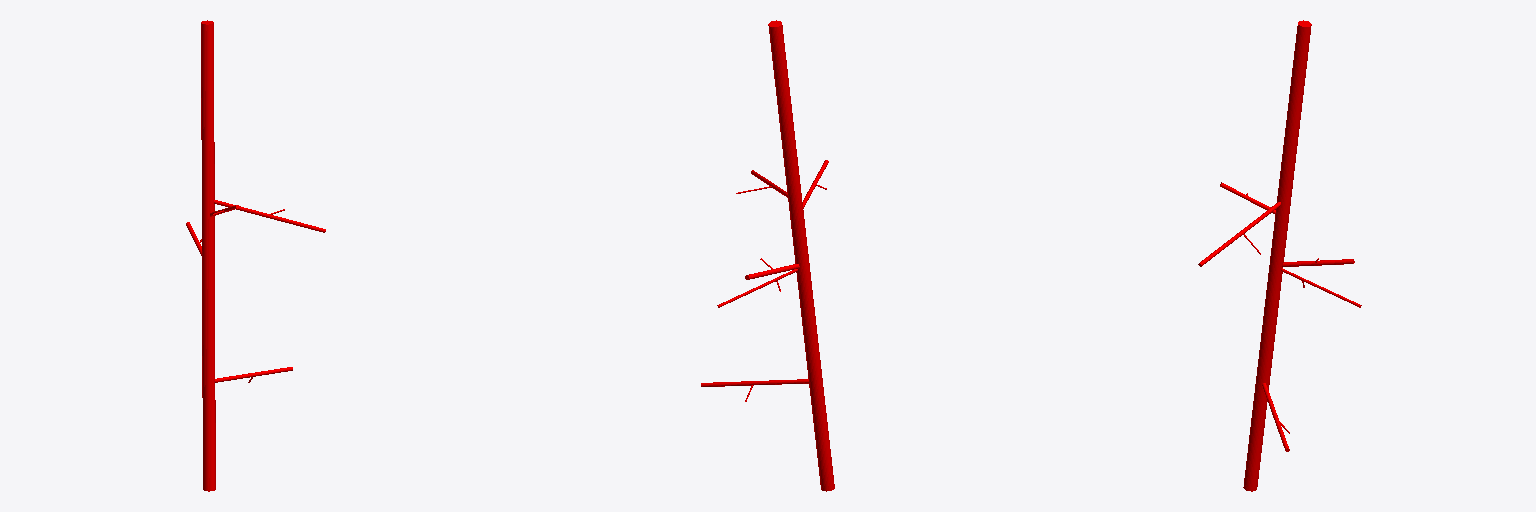
URDF robot description (tree_25.urdf):
<?xml version='1.0' encoding='UTF-8'?>
<robot name="tree_25.urdf">
  <link name="branch_0">
    <inertial>
      <origin xyz="0.0 0.0 0.0" rpy="0.0 -0.0 0.0"/>
      <mass value="0.1"/>
      <inertia ixx="0.001" ixy="0.0" ixz="0.0" iyy="0.001" iyz="0.0" izz="0.001"/>
    </inertial>
    <visual name="branch_0_visual">
      <geometry>
        <cylinder radius="0.08957410313002225" length="6.779801568497405"/>
      </geometry>
      <material name="semantic_material"/>
      <origin xyz="0.18666778554879407 0.34825692871360764 3.3667936640802982" rpy="0.0 0.1168265146432138 1.078760553973298"/>
    </visual>
    <collision name="branch_0_collision">
      <geometry>
        <cylinder radius="0.08957410313002225" length="6.779801568497405"/>
      </geometry>
      <origin xyz="0.18666778554879407 0.34825692871360764 3.3667936640802982" rpy="0.0 0.1168265146432138 1.078760553973298"/>
    </collision>
  </link>
  <link name="branch_1">
    <inertial>
      <origin xyz="0.0 0.0 0.0" rpy="0.0 -0.0 0.0"/>
      <mass value="0.1"/>
      <inertia ixx="0.001" ixy="0.0" ixz="0.0" iyy="0.001" iyz="0.0" izz="0.001"/>
    </inertial>
    <visual name="branch_1_visual">
      <geometry>
        <cylinder radius="0.027401256452054976" length="0.9089082602848901"/>
      </geometry>
      <material name="semantic_material"/>
      <origin xyz="0.0 0.0 0.0" rpy="0.0 -0.0 0.0"/>
    </visual>
    <collision name="branch_1_collision">
      <geometry>
        <cylinder radius="0.027401256452054976" length="0.9089082602848901"/>
      </geometry>
      <origin xyz="0.0 0.0 0.0" rpy="0.0 -0.0 0.0"/>
    </collision>
  </link>
  <link name="branch_2">
    <inertial>
      <origin xyz="0.0 0.0 0.0" rpy="0.0 -0.0 0.0"/>
      <mass value="0.1"/>
      <inertia ixx="0.001" ixy="0.0" ixz="0.0" iyy="0.001" iyz="0.0" izz="0.001"/>
    </inertial>
    <visual name="branch_2_visual">
      <geometry>
        <cylinder radius="0.01" length="0.18688515791371277"/>
      </geometry>
      <material name="semantic_material"/>
      <origin xyz="0.0 0.0 0.0" rpy="0.0 -0.0 0.0"/>
    </visual>
    <collision name="branch_2_collision">
      <geometry>
        <cylinder radius="0.01" length="0.18688515791371277"/>
      </geometry>
      <origin xyz="0.0 0.0 0.0" rpy="0.0 -0.0 0.0"/>
    </collision>
  </link>
  <link name="branch_3">
    <inertial>
      <origin xyz="0.0 0.0 0.0" rpy="0.0 -0.0 0.0"/>
      <mass value="0.1"/>
      <inertia ixx="0.001" ixy="0.0" ixz="0.0" iyy="0.001" iyz="0.0" izz="0.001"/>
    </inertial>
    <visual name="branch_3_visual">
      <geometry>
        <cylinder radius="0.019200198610659875" length="1.2768878653445594"/>
      </geometry>
      <material name="semantic_material"/>
      <origin xyz="0.0 0.0 0.0" rpy="0.0 -0.0 0.0"/>
    </visual>
    <collision name="branch_3_collision">
      <geometry>
        <cylinder radius="0.019200198610659875" length="1.2768878653445594"/>
      </geometry>
      <origin xyz="0.0 0.0 0.0" rpy="0.0 -0.0 0.0"/>
    </collision>
  </link>
  <link name="branch_4">
    <inertial>
      <origin xyz="0.0 0.0 0.0" rpy="0.0 -0.0 0.0"/>
      <mass value="0.1"/>
      <inertia ixx="0.001" ixy="0.0" ixz="0.0" iyy="0.001" iyz="0.0" izz="0.001"/>
    </inertial>
    <visual name="branch_4_visual">
      <geometry>
        <cylinder radius="0.01" length="0.16825786164341286"/>
      </geometry>
      <material name="semantic_material"/>
      <origin xyz="0.0 0.0 0.0" rpy="0.0 -0.0 0.0"/>
    </visual>
    <collision name="branch_4_collision">
      <geometry>
        <cylinder radius="0.01" length="0.16825786164341286"/>
      </geometry>
      <origin xyz="0.0 0.0 0.0" rpy="0.0 -0.0 0.0"/>
    </collision>
  </link>
  <link name="branch_5">
    <inertial>
      <origin xyz="0.0 0.0 0.0" rpy="0.0 -0.0 0.0"/>
      <mass value="0.1"/>
      <inertia ixx="0.001" ixy="0.0" ixz="0.0" iyy="0.001" iyz="0.0" izz="0.001"/>
    </inertial>
    <visual name="branch_5_visual">
      <geometry>
        <cylinder radius="0.03258358550858078" length="1.0337267654915794"/>
      </geometry>
      <material name="semantic_material"/>
      <origin xyz="0.0 0.0 0.0" rpy="0.0 -0.0 0.0"/>
    </visual>
    <collision name="branch_5_collision">
      <geometry>
        <cylinder radius="0.03258358550858078" length="1.0337267654915794"/>
      </geometry>
      <origin xyz="0.0 0.0 0.0" rpy="0.0 -0.0 0.0"/>
    </collision>
  </link>
  <link name="branch_6">
    <inertial>
      <origin xyz="0.0 0.0 0.0" rpy="0.0 -0.0 0.0"/>
      <mass value="0.1"/>
      <inertia ixx="0.001" ixy="0.0" ixz="0.0" iyy="0.001" iyz="0.0" izz="0.001"/>
    </inertial>
    <visual name="branch_6_visual">
      <geometry>
        <cylinder radius="0.01" length="0.24633601690739584"/>
      </geometry>
      <material name="semantic_material"/>
      <origin xyz="0.0 0.0 0.0" rpy="0.0 -0.0 0.0"/>
    </visual>
    <collision name="branch_6_collision">
      <geometry>
        <cylinder radius="0.01" length="0.24633601690739584"/>
      </geometry>
      <origin xyz="0.0 0.0 0.0" rpy="0.0 -0.0 0.0"/>
    </collision>
  </link>
  <link name="branch_7">
    <inertial>
      <origin xyz="0.0 0.0 0.0" rpy="0.0 -0.0 0.0"/>
      <mass value="0.1"/>
      <inertia ixx="0.001" ixy="0.0" ixz="0.0" iyy="0.001" iyz="0.0" izz="0.001"/>
    </inertial>
    <visual name="branch_7_visual">
      <geometry>
        <cylinder radius="0.02852742988512613" length="1.5555431889584967"/>
      </geometry>
      <material name="semantic_material"/>
      <origin xyz="0.0 0.0 0.0" rpy="0.0 -0.0 0.0"/>
    </visual>
    <collision name="branch_7_collision">
      <geometry>
        <cylinder radius="0.02852742988512613" length="1.5555431889584967"/>
      </geometry>
      <origin xyz="0.0 0.0 0.0" rpy="0.0 -0.0 0.0"/>
    </collision>
  </link>
  <link name="branch_8">
    <inertial>
      <origin xyz="0.0 0.0 0.0" rpy="0.0 -0.0 0.0"/>
      <mass value="0.1"/>
      <inertia ixx="0.001" ixy="0.0" ixz="0.0" iyy="0.001" iyz="0.0" izz="0.001"/>
    </inertial>
    <visual name="branch_8_visual">
      <geometry>
        <cylinder radius="0.01" length="0.2649404715224873"/>
      </geometry>
      <material name="semantic_material"/>
      <origin xyz="0.0 0.0 0.0" rpy="0.0 -0.0 0.0"/>
    </visual>
    <collision name="branch_8_collision">
      <geometry>
        <cylinder radius="0.01" length="0.2649404715224873"/>
      </geometry>
      <origin xyz="0.0 0.0 0.0" rpy="0.0 -0.0 0.0"/>
    </collision>
  </link>
  <link name="branch_9">
    <inertial>
      <origin xyz="0.0 0.0 0.0" rpy="0.0 -0.0 0.0"/>
      <mass value="0.1"/>
      <inertia ixx="0.001" ixy="0.0" ixz="0.0" iyy="0.001" iyz="0.0" izz="0.001"/>
    </inertial>
    <visual name="branch_9_visual">
      <geometry>
        <cylinder radius="0.027818197872821433" length="1.680558201055875"/>
      </geometry>
      <material name="semantic_material"/>
      <origin xyz="0.0 0.0 0.0" rpy="0.0 -0.0 0.0"/>
    </visual>
    <collision name="branch_9_collision">
      <geometry>
        <cylinder radius="0.027818197872821433" length="1.680558201055875"/>
      </geometry>
      <origin xyz="0.0 0.0 0.0" rpy="0.0 -0.0 0.0"/>
    </collision>
  </link>
  <link name="branch_10">
    <inertial>
      <origin xyz="0.0 0.0 0.0" rpy="0.0 -0.0 0.0"/>
      <mass value="0.1"/>
      <inertia ixx="0.001" ixy="0.0" ixz="0.0" iyy="0.001" iyz="0.0" izz="0.001"/>
    </inertial>
    <visual name="branch_10_visual">
      <geometry>
        <cylinder radius="0.01" length="0.49688802552788275"/>
      </geometry>
      <material name="semantic_material"/>
      <origin xyz="0.0 0.0 0.0" rpy="0.0 -0.0 0.0"/>
    </visual>
    <collision name="branch_10_collision">
      <geometry>
        <cylinder radius="0.01" length="0.49688802552788275"/>
      </geometry>
      <origin xyz="0.0 0.0 0.0" rpy="0.0 -0.0 0.0"/>
    </collision>
  </link>
  <joint name="joint_0_1" type="fixed">
    <parent link="branch_0"/>
    <child link="branch_1"/>
    <axis xyz="1. 0. 0."/>
    <origin xyz="0.22489107009965065 0.014172571003737379 4.174543703264378" rpy="-0.10766494330264226 1.0471356611366112 -1.6798331672989493"/>
  </joint>
  <joint name="joint_0_3" type="fixed">
    <parent link="branch_0"/>
    <child link="branch_3"/>
    <axis xyz="1. 0. 0."/>
    <origin xyz="0.48976842294629136 0.8725637080881202 3.0732596436734543" rpy="-3.1244636298625177 1.3610318987973273 -2.07647330243667"/>
  </joint>
  <joint name="joint_0_5" type="fixed">
    <parent link="branch_0"/>
    <child link="branch_5"/>
    <axis xyz="1. 0. 0."/>
    <origin xyz="0.30292352504807124 0.8299364354913885 3.318622983614619" rpy="0.1824929740609098 1.4086857898738605 1.5112738473854035"/>
  </joint>
  <joint name="joint_0_7" type="fixed">
    <parent link="branch_0"/>
    <child link="branch_7"/>
    <axis xyz="1. 0. 0."/>
    <origin xyz="0.834859093258707 0.3182076425545541 1.4133245962739744" rpy="-2.6842203551342223 1.3696530112013414 -2.46865807593455"/>
  </joint>
  <joint name="joint_0_9" type="fixed">
    <parent link="branch_0"/>
    <child link="branch_9"/>
    <axis xyz="1. 0. 0."/>
    <origin xyz="0.8555366187649605 -0.10578672256852645 4.008500759970498" rpy="-2.617005386878161 1.3404305804580212 2.9667749403644015"/>
  </joint>
  <joint name="joint_1_2" type="fixed">
    <parent link="branch_0"/>
    <child link="branch_2"/>
    <axis xyz="1. 0. 0."/>
    <origin xyz="0.13354502283271882 -0.0421047986444581 4.197434387794038" rpy="-1.7312036447123806 0.5030738015243127 1.4227980131466775"/>
  </joint>
  <joint name="joint_3_4" type="fixed">
    <parent link="branch_0"/>
    <child link="branch_4"/>
    <axis xyz="1. 0. 0."/>
    <origin xyz="0.3376941972335645 0.6789063399845529 3.0471958656919673" rpy="2.717183980211538 -0.1391621225206751 -2.1266016647311416"/>
  </joint>
  <joint name="joint_5_6" type="fixed">
    <parent link="branch_0"/>
    <child link="branch_6"/>
    <axis xyz="1. 0. 0."/>
    <origin xyz="0.39681575287940324 0.8493279664661079 3.3944144101771343" rpy="-0.8974254267490394 -0.13273860172932794 -1.4524310631060355"/>
  </joint>
  <joint name="joint_7_8" type="fixed">
    <parent link="branch_0"/>
    <child link="branch_8"/>
    <axis xyz="1. 0. 0."/>
    <origin xyz="0.9135539071929838 0.420762568477961 1.3009940846149584" rpy="2.4183426801718433 0.06610275220547047 3.1298583779725826"/>
  </joint>
  <joint name="joint_9_10" type="fixed">
    <parent link="branch_0"/>
    <child link="branch_10"/>
    <axis xyz="1. 0. 0."/>
    <origin xyz="1.066489270355242 0.013473438243604212 3.9558706727706676" rpy="1.7870824145593238 -0.12823103207127778 2.052459347575872"/>
  </joint>
  <material name="semantic_material">
    <color rgba="1. 0. 0. 1."/>
  </material>
</robot>

--- What the picture shows (computed from the rendered views, not written in the file) ---
Views: 3 orthographic renders of the robot side by side, from view 1: azimuth 30°, elevation 25°; view 2: azimuth 150°, elevation 25°; view 3: azimuth 270°, elevation 25°.
Robot: tree_25.urdf — 11 links, 10 joints (10 fixed); root link branch_0; default pose: all joints at 0.
Visible links, largest first — view 1: branch_0; view 2: branch_0; view 3: branch_0.
Link boxes in pixels (x1,y1,x2,y2): branch_0: [201, 20, 215, 491]; branch_0: [768, 20, 834, 491]; branch_0: [1243, 20, 1311, 491].
Bounding box of the posed robot: 1.68 × 2.09 × 6.75 m (x, y, z).
Geometry: primitives only (box / cylinder / sphere), no mesh files.
